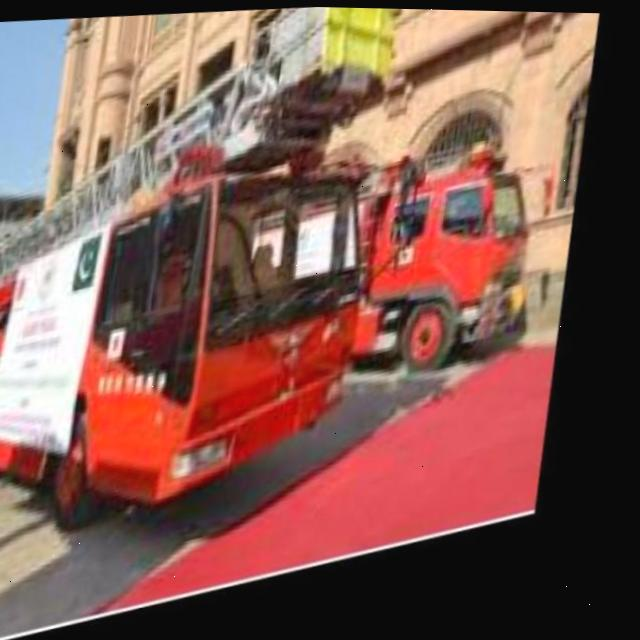emergency: (0, 151, 399, 540), (290, 133, 549, 378)
